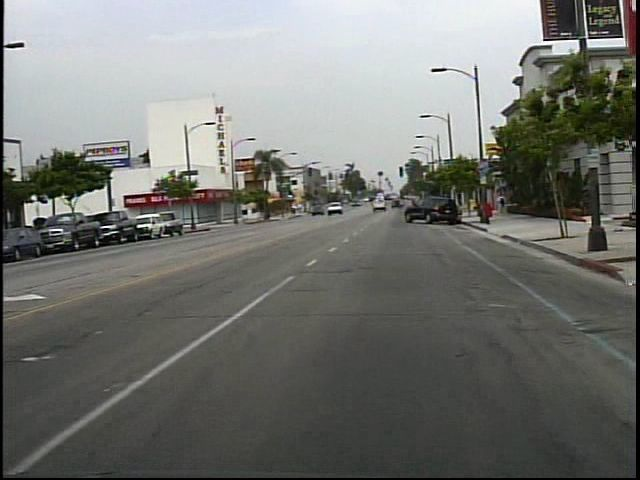person: (498, 190, 513, 219)
